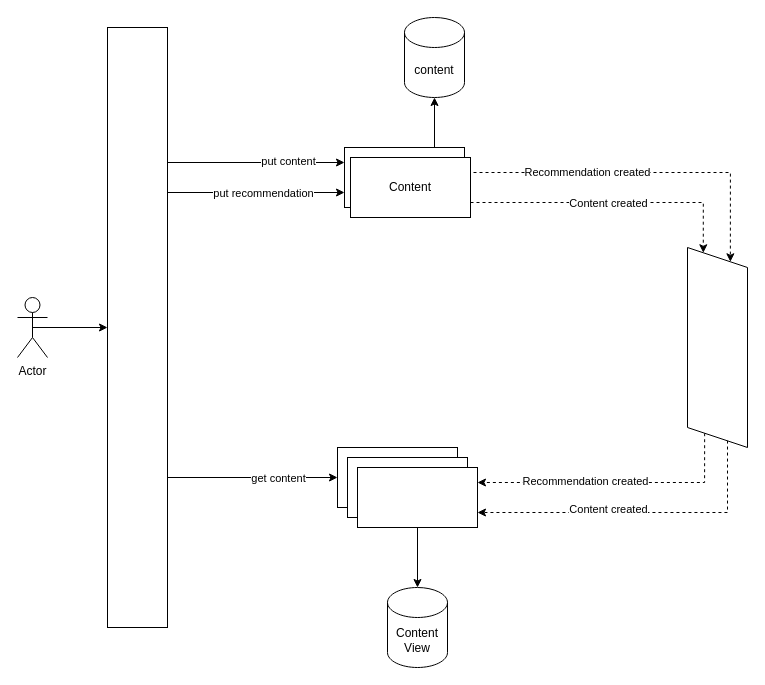
This 765x685 diagram has some shape labels left out. Each missing label, with the centre of its shape:
"API Gateway" belongs at point (137, 327).
"Catalog" belongs at point (417, 497).
"Queue" belongs at point (717, 347).
